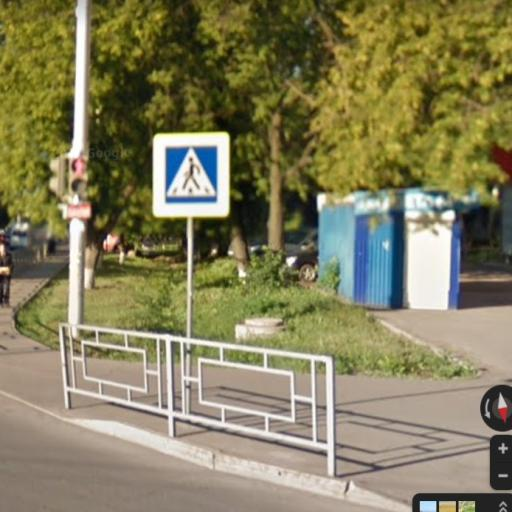traffic_sign: (152, 131, 233, 221)
